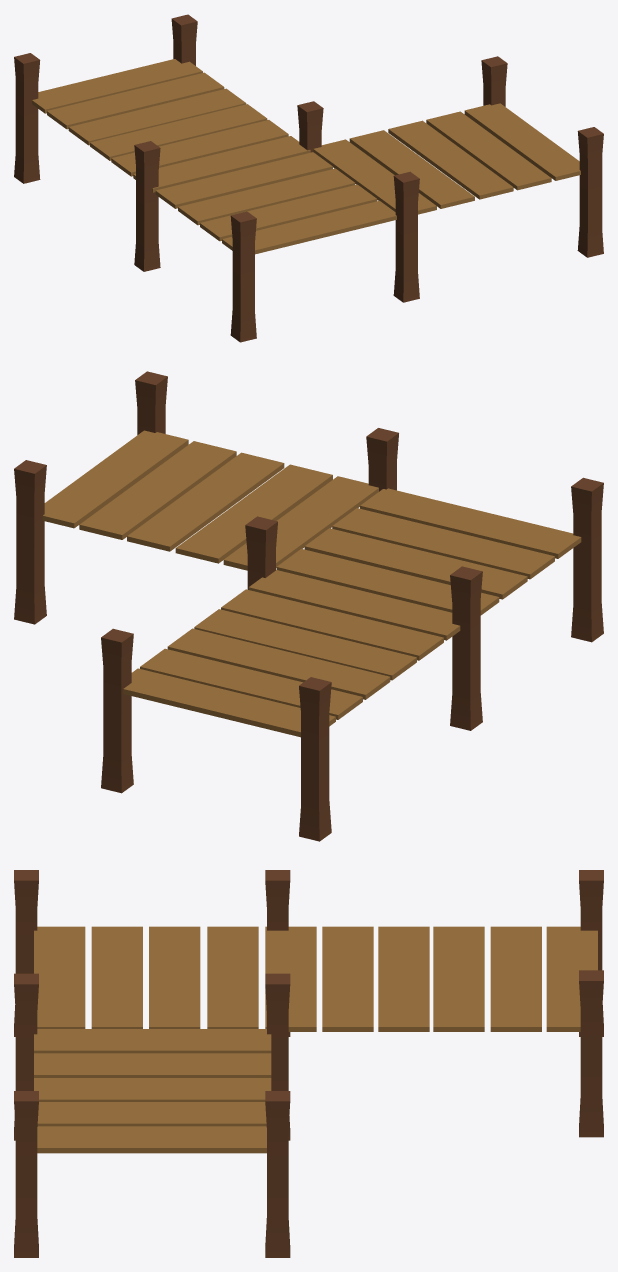
The model's file is Dock.fbx.
3 views of the same model, one above another, from view 1: azimuth 30°, elevation 25°; view 2: azimuth 150°, elevation 25°; view 3: azimuth 270°, elevation 25° (orthographic). The views are drawn at different scales.
Visible parts, largest first — view 1: Dock; view 2: Dock; view 3: Dock.
Boxes of the visible parts, bbox=[...] form: Dock: bbox=[14, 14, 603, 342]; Dock: bbox=[14, 371, 603, 841]; Dock: bbox=[14, 870, 603, 1257].
Size of the model in its own units: 10.65 by 3.36 by 11.47.
